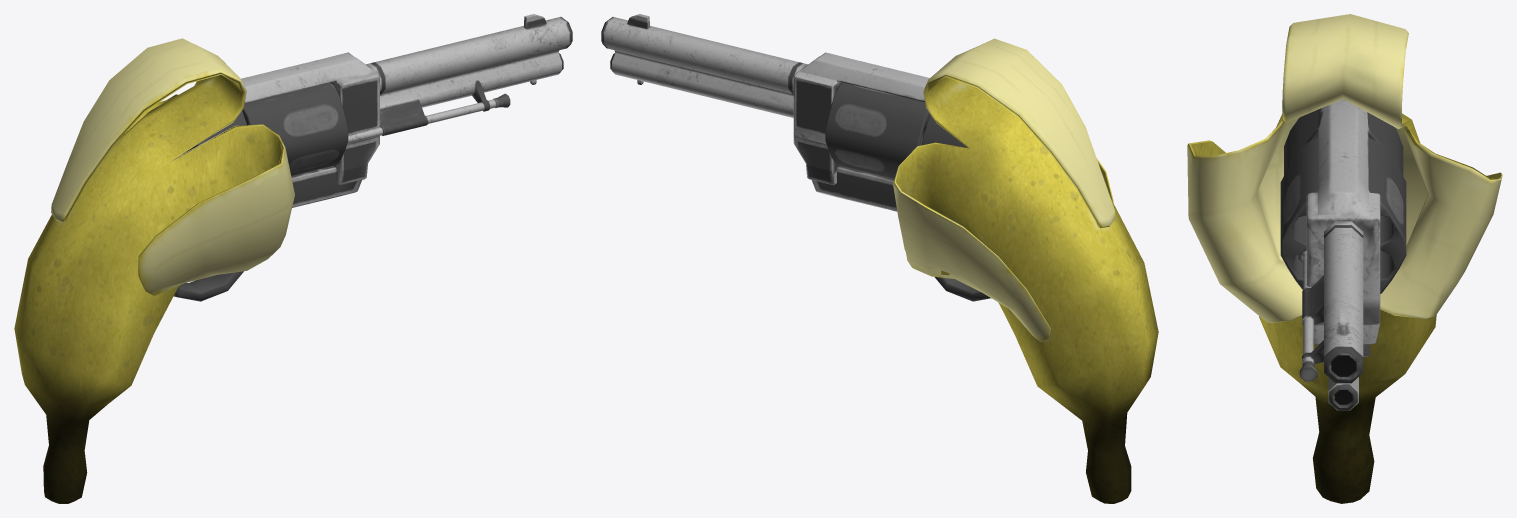
The model's file is banana_pistol.glb.
3 renders of one model, left to right at view 1: azimuth 30°, elevation 25°; view 2: azimuth 150°, elevation 25°; view 3: azimuth 270°, elevation 25°, orthographic. The views are drawn at different scales.
Parts seen in each view (by area): view 1: Banana_LP, Cev_LP, Telo_LP, Bure_LP, OkvirObaraca_LP, Punjac_LP; view 2: Banana_LP, Cev_LP, Telo_LP, Bure_LP, OkvirObaraca_LP; view 3: Banana_LP, Telo_LP, Cev_LP, Bure_LP, Punjac_LP.
Part boxes in pixels (x1,y1,x2,y2): Banana_LP: (14, 38, 294, 503); Cev_LP: (366, 17, 572, 135); Telo_LP: (182, 52, 379, 207); Bure_LP: (242, 82, 348, 175); OkvirObaraca_LP: (173, 271, 243, 301); Punjac_LP: (347, 93, 510, 143); Banana_LP: (893, 38, 1158, 503); Cev_LP: (601, 17, 807, 117); Telo_LP: (793, 52, 967, 211); Bure_LP: (825, 82, 929, 178); OkvirObaraca_LP: (934, 277, 990, 301); Banana_LP: (1187, 14, 1502, 503); Telo_LP: (1284, 99, 1403, 356); Cev_LP: (1302, 221, 1363, 410); Bure_LP: (1280, 137, 1406, 293); Punjac_LP: (1298, 250, 1317, 381).
Bounding box in the file's own units: 1.31 × 0.9656 × 0.5006.
2 materials, 2 textured.
